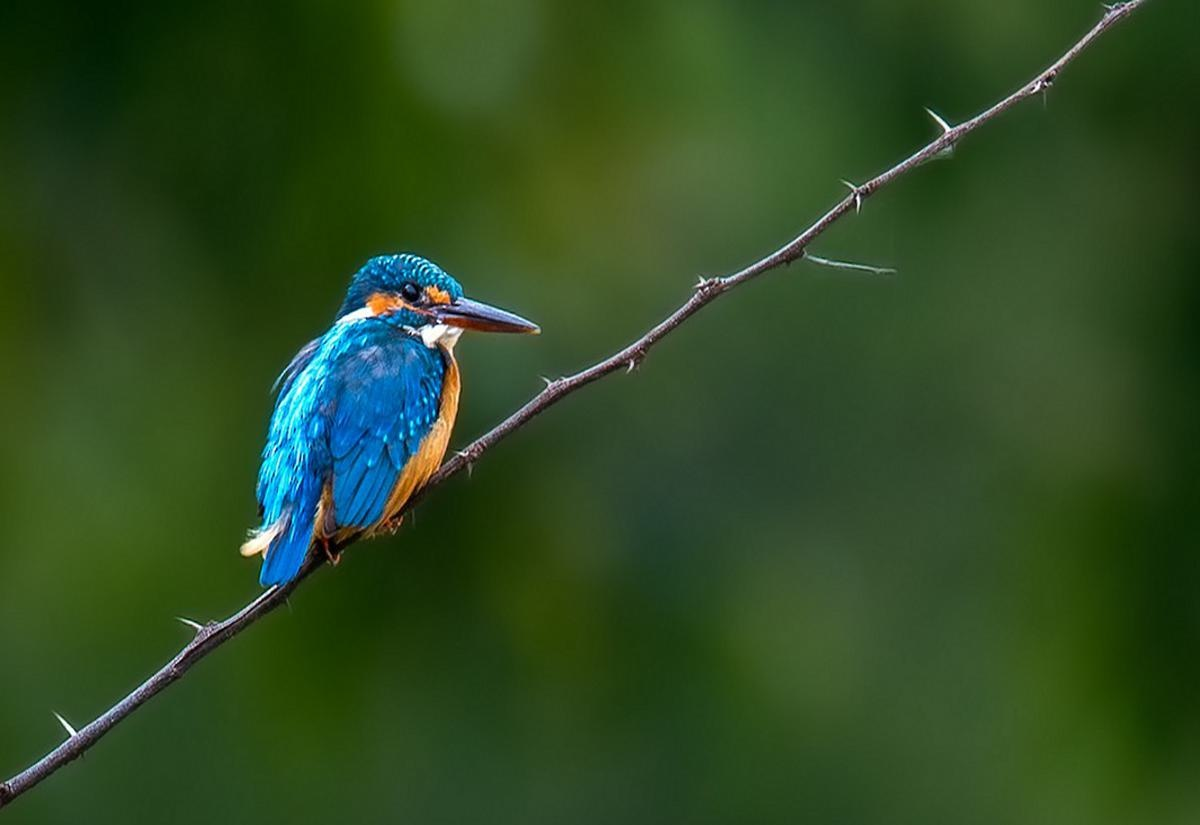kingfisher: (239, 246, 553, 586)
